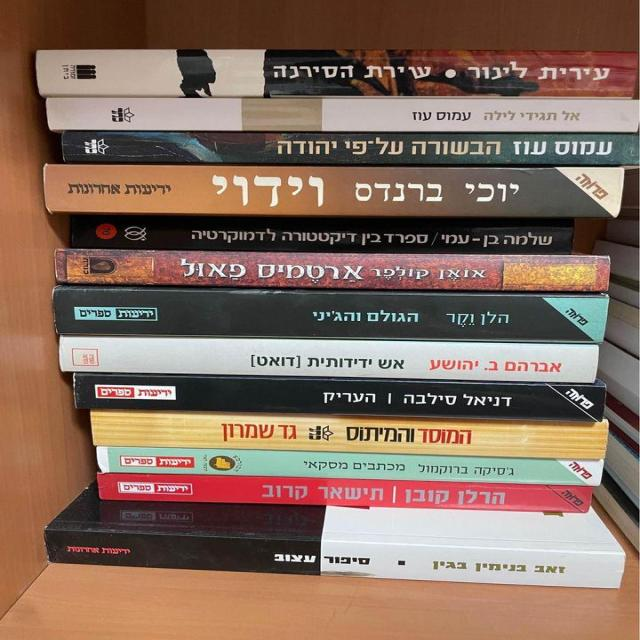book: (42, 529, 629, 590), (44, 165, 622, 218), (53, 290, 610, 343), (36, 51, 638, 98), (72, 375, 606, 422), (59, 338, 599, 383), (89, 412, 609, 458), (56, 249, 610, 290), (94, 446, 606, 487), (70, 214, 574, 255), (96, 473, 592, 513), (60, 132, 640, 164), (46, 99, 640, 129)
